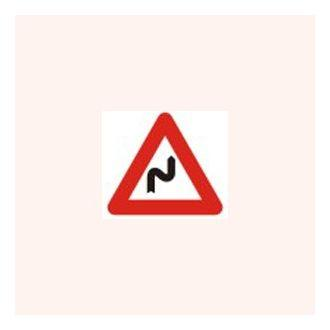Right Reverse Bend: (104, 97, 227, 229)
